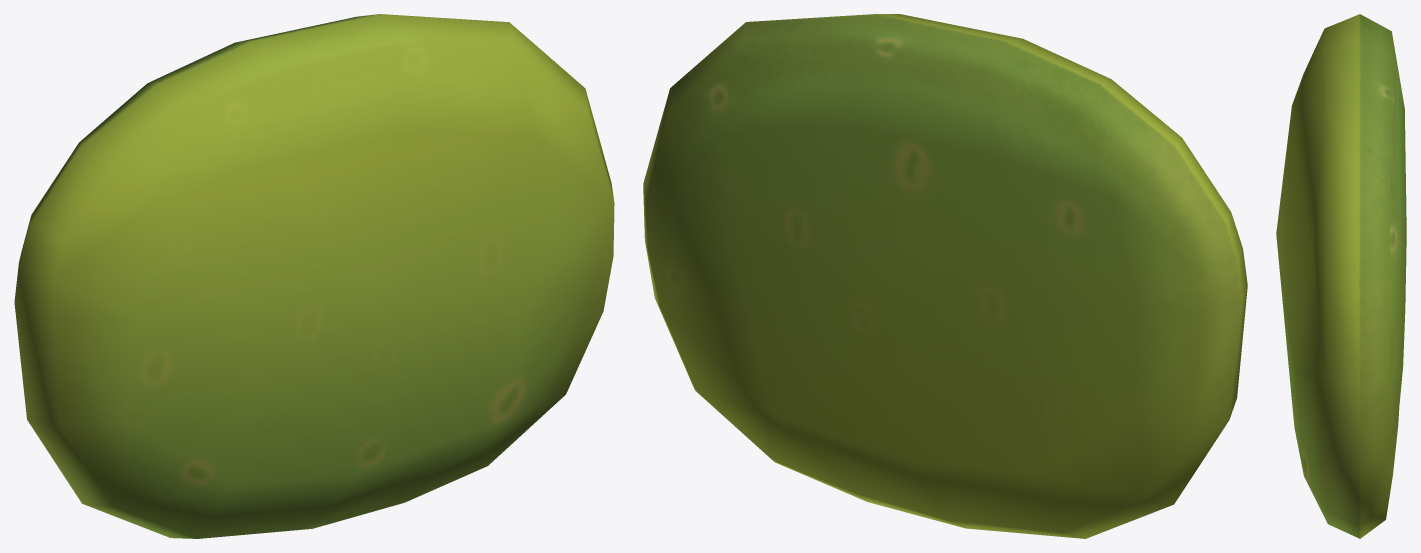
Rendered from bcactus6.fbx.
The picture shows the model from 3 angles, left to right: view 1: azimuth 30°, elevation 25°; view 2: azimuth 150°, elevation 25°; view 3: azimuth 270°, elevation 25°; orthographic projection. The views are drawn at different scales.
Visible parts, largest first — view 1: Object018; view 2: Object018; view 3: Object018.
Boxes of the visible parts, left/top/right/bottom form: Object018: left=14, top=14, right=614, bottom=538; Object018: left=643, top=14, right=1247, bottom=538; Object018: left=1276, top=14, right=1406, bottom=538.
Bounding box in the file's own units: 215 × 47.63 × 170.
